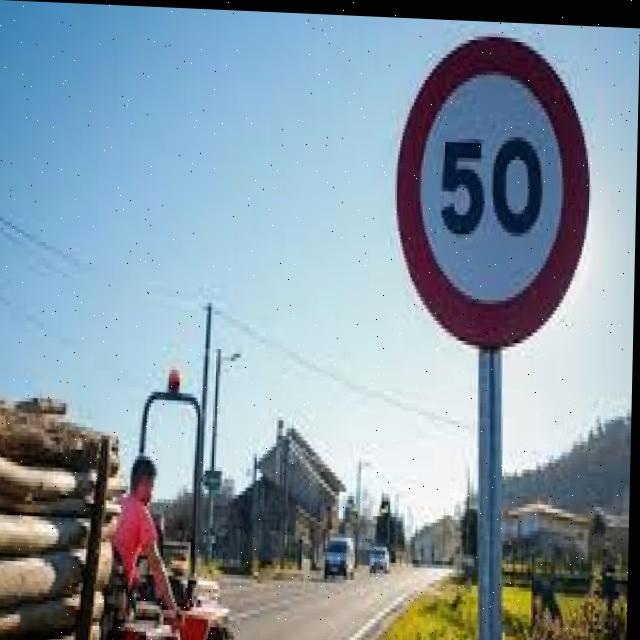Speed limit 50: (392, 22, 596, 353)
